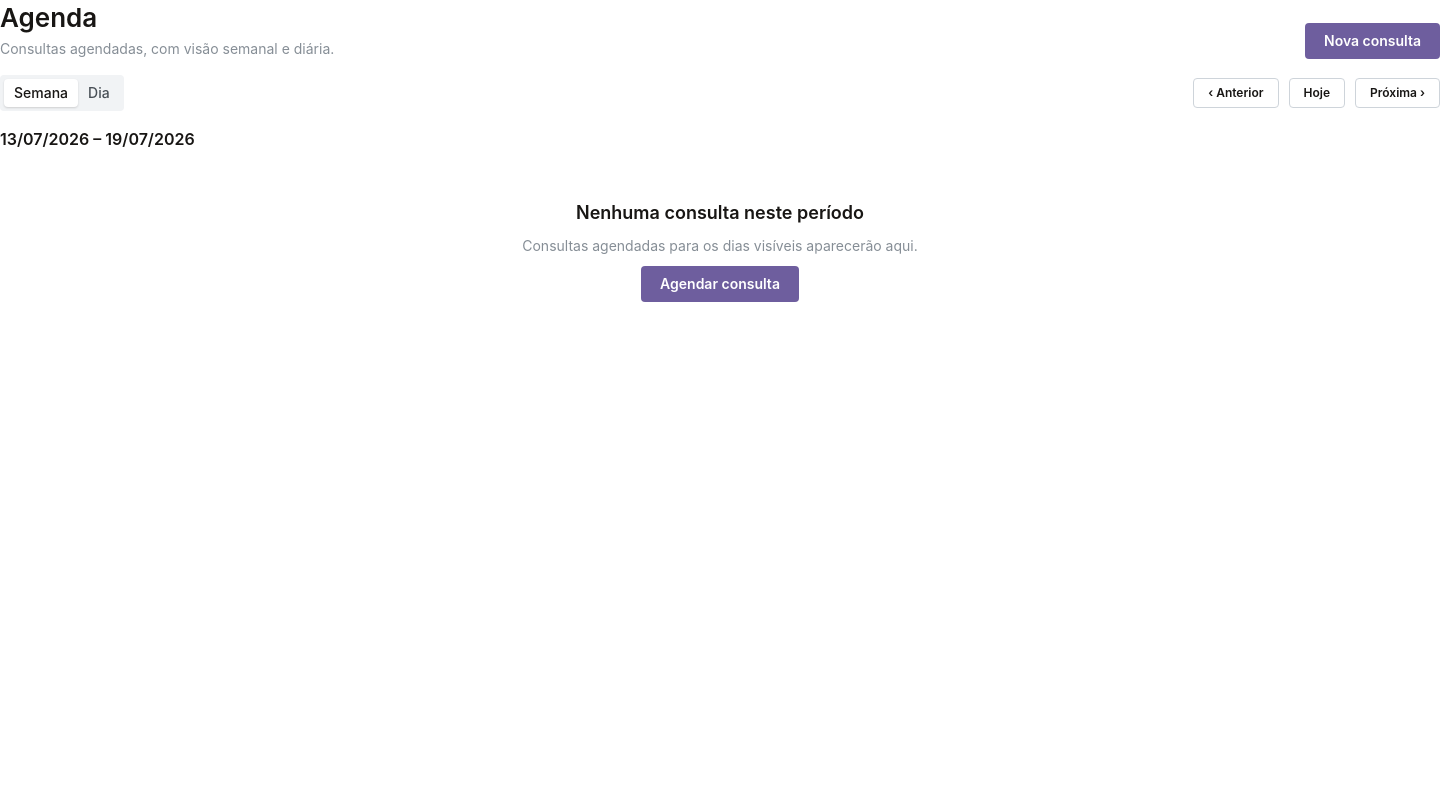
AgendaPage — criar consulta › cria uma consulta avulsa e recarrega a agenda
Expected: the heading "Nenhuma consulta neste período" is shown, [576,200,864,226]
Step 1. Click the button "Nova consulta" → click(1372, 41), box [1305,23,1439,59]
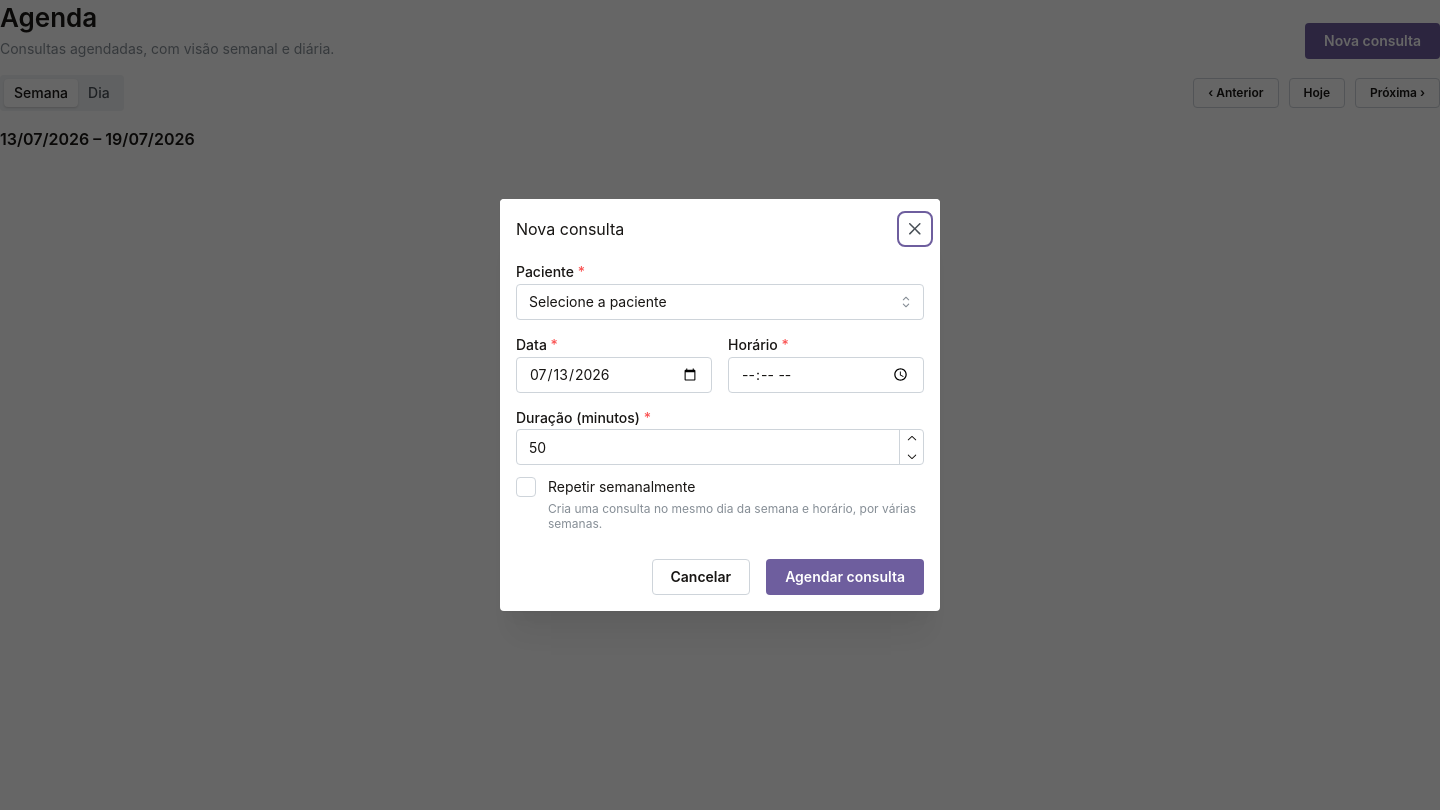
Step 2. Select "Marina Alves" in the dropdown labelled "Paciente" → (720, 302), box [516,284,924,320]
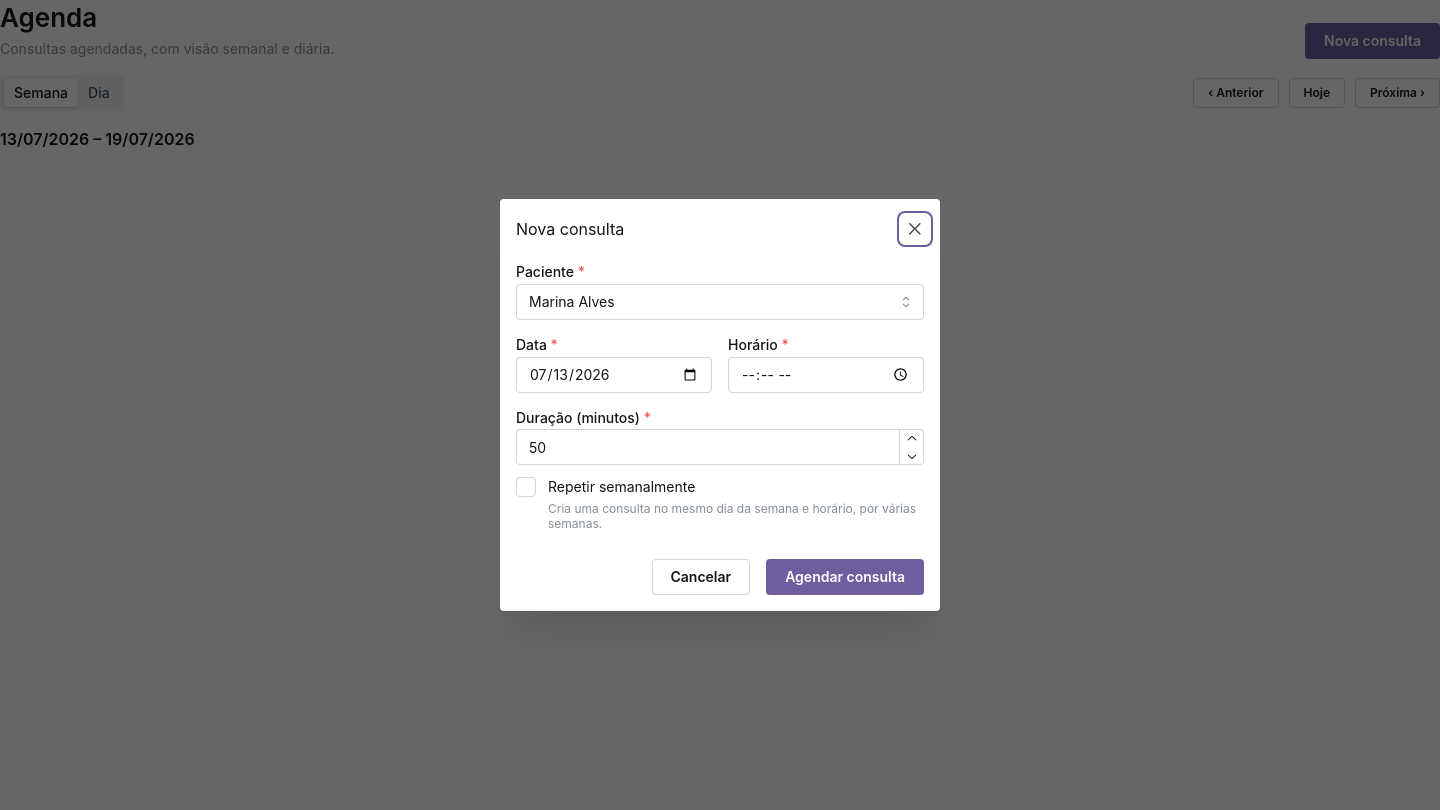
Step 3. Type "2026-07-16" into the date field labelled "Data" → (614, 374), box [516,356,712,392]
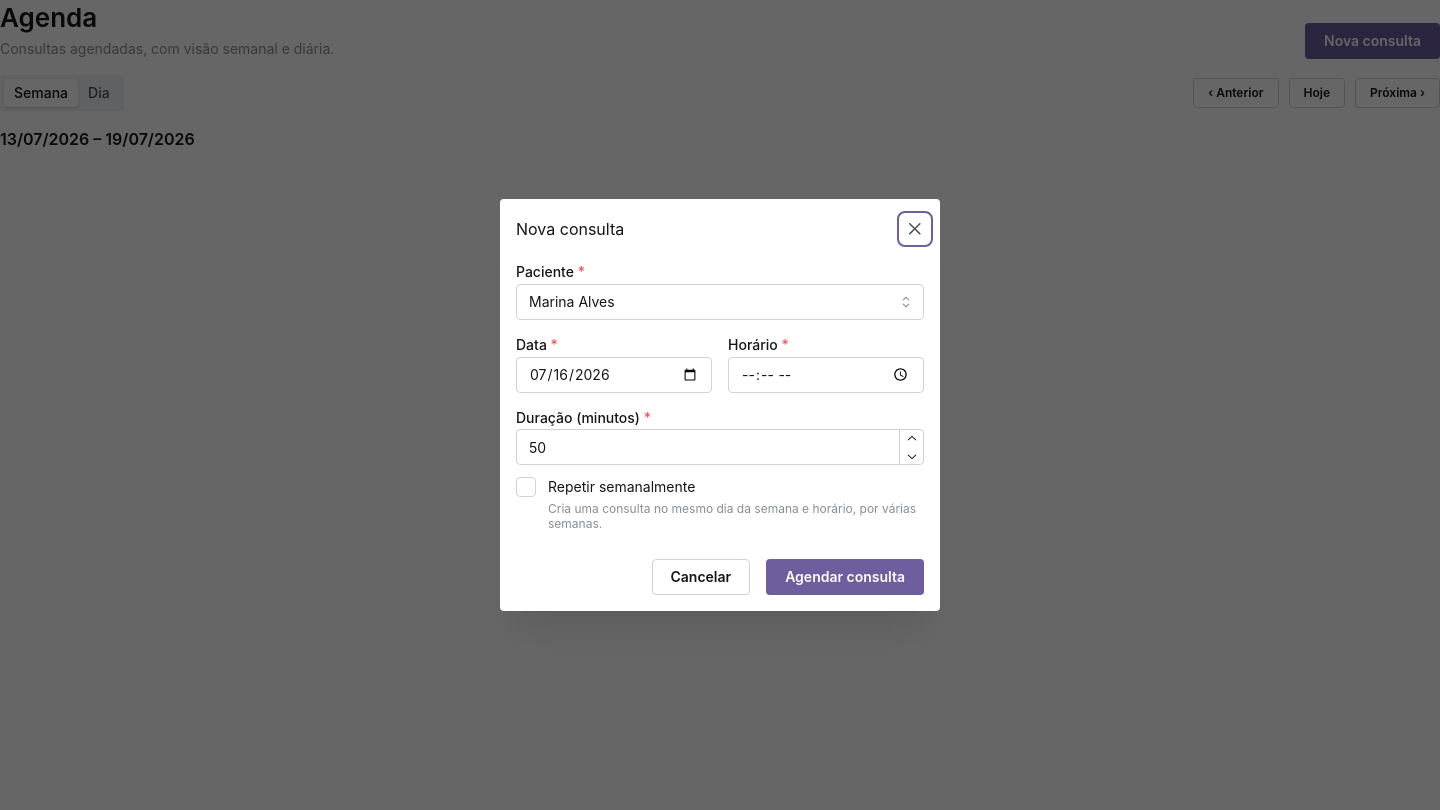
Step 4. Type "09:00" into the time field labelled "Horário" → (826, 374), box [728,356,924,392]
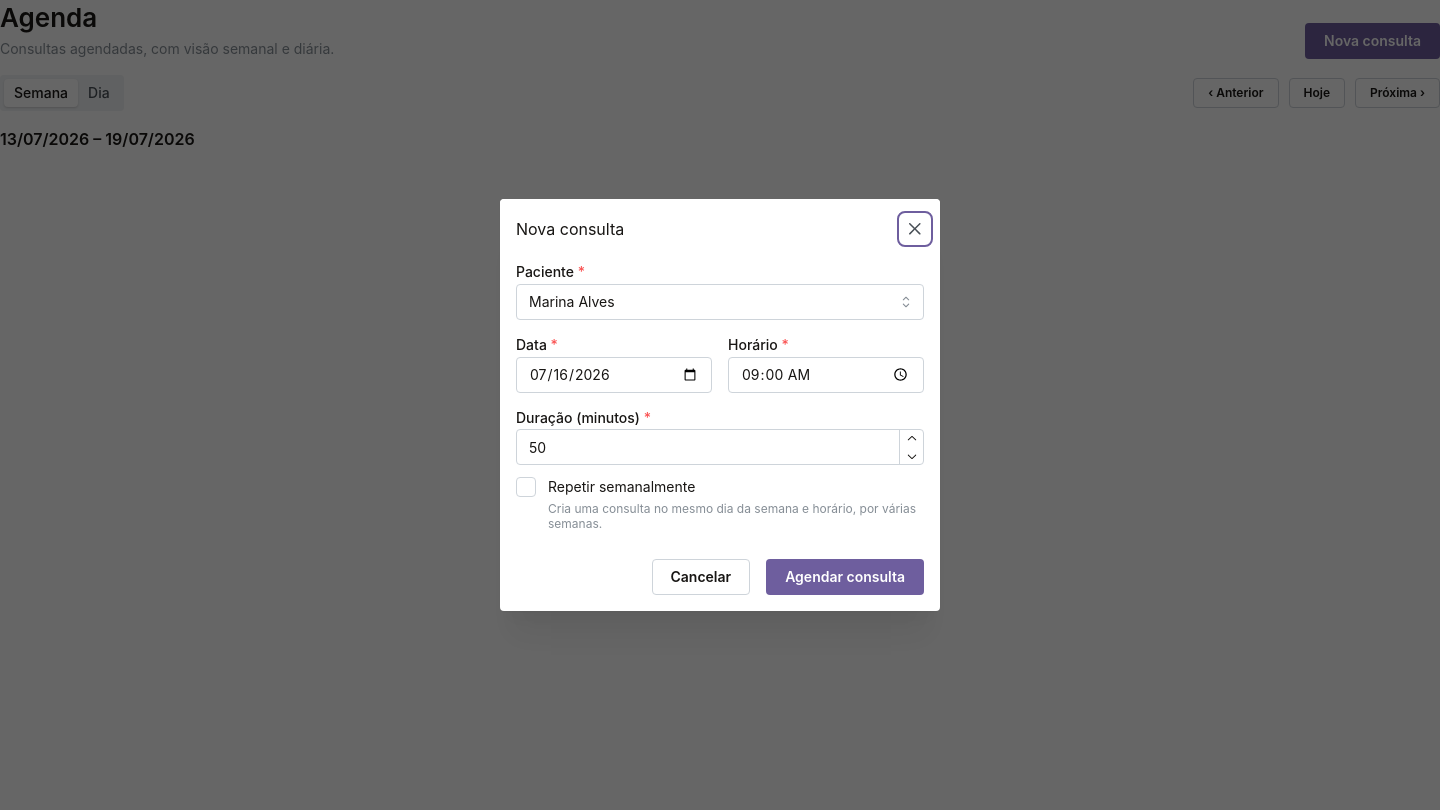
Step 5. Click the button "Agendar consulta" → click(845, 577), box [766,559,924,595]
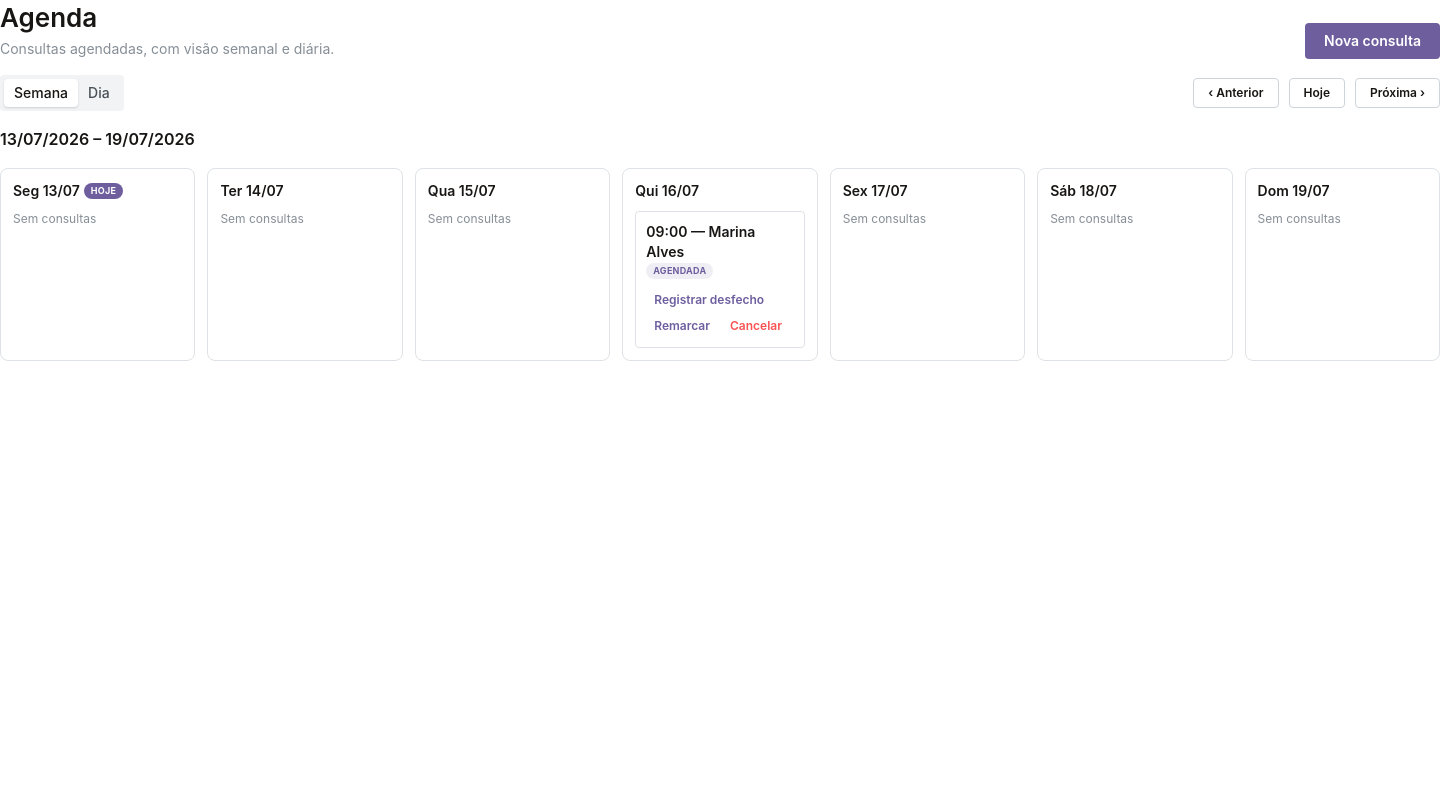
Expected: the form with test id "new-appointment-form" is gone
Expected: the text "09:00 — Marina Alves" is shown, [646,223,755,260]
